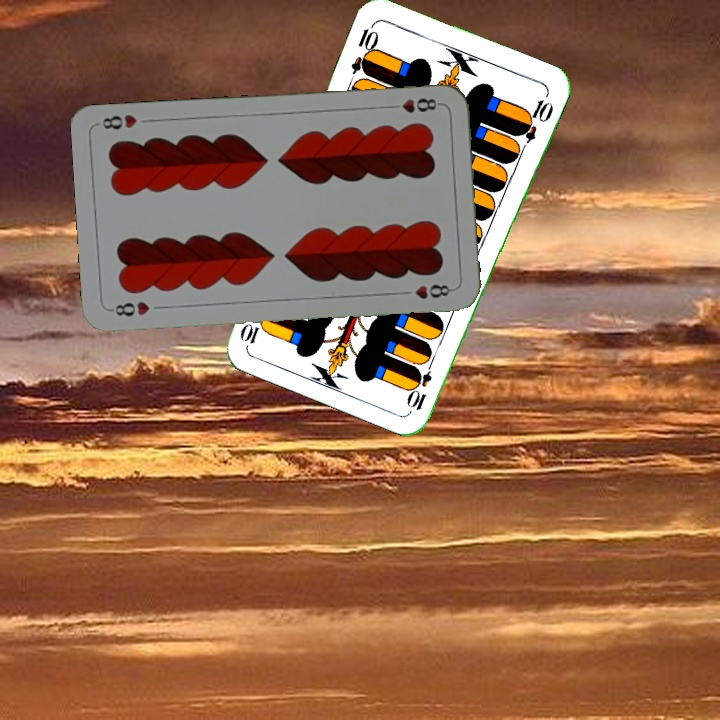E10: (347, 19, 382, 77), (405, 355, 437, 413)
H8: (384, 94, 444, 115), (106, 298, 152, 319)
